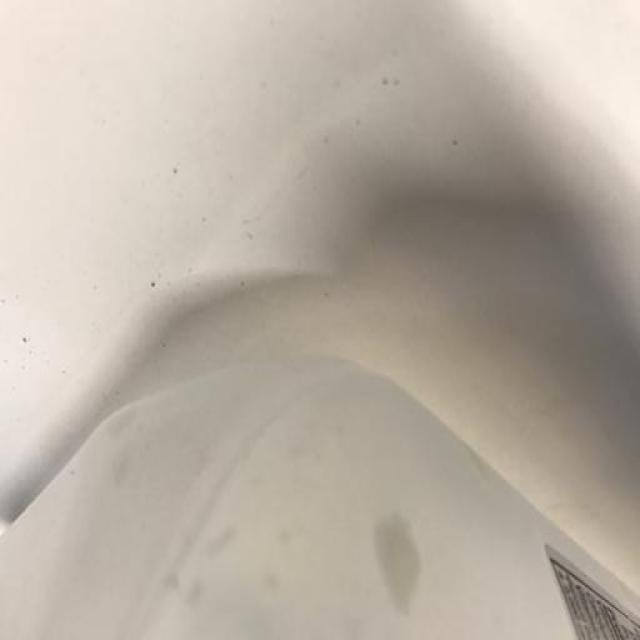Plastic: (0, 358, 640, 640)
